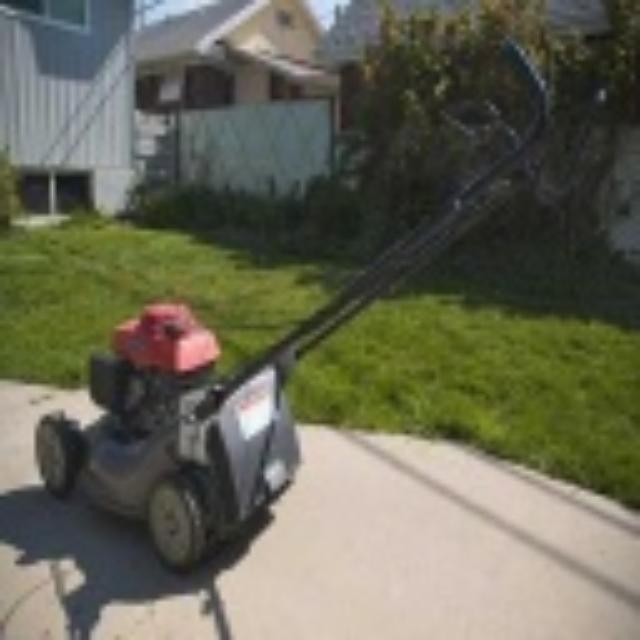Rotary-Mower: (32, 26, 578, 594)
